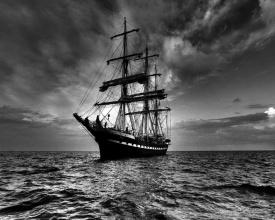fanchuan: (76, 21, 176, 153)
